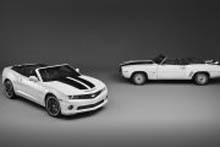car: (1, 60, 113, 122)
